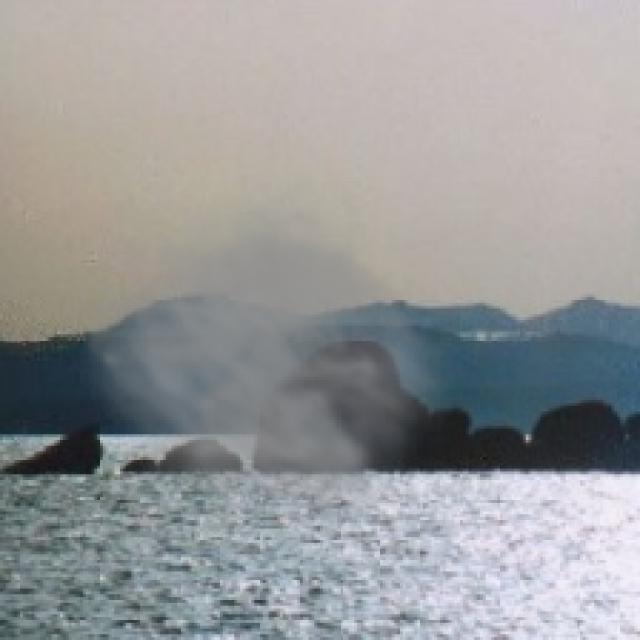smoke: (68, 163, 463, 523)
